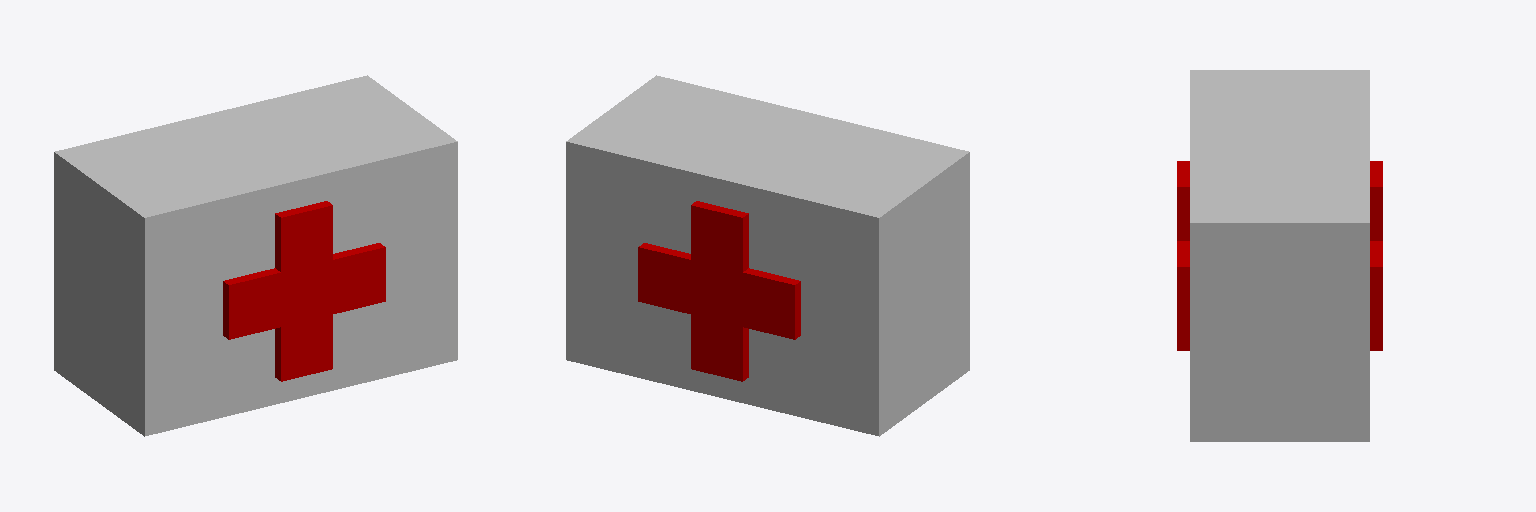
The model's file is healthkit.obj.
3 views of the same model, side by side, from view 1: azimuth 30°, elevation 25°; view 2: azimuth 150°, elevation 25°; view 3: azimuth 270°, elevation 25° (orthographic).
Parts seen in each view (by area): view 1: Cube, Cross_Cube.001; view 2: Cube, Cross_Cube.001; view 3: Cube, Cross_Cube.001.
Part boxes in pixels (x1,y1,x2,y2): Cube: (54, 75, 457, 436); Cross_Cube.001: (223, 201, 385, 381); Cube: (566, 75, 969, 436); Cross_Cube.001: (638, 201, 800, 381); Cube: (1190, 70, 1369, 441); Cross_Cube.001: (1177, 161, 1382, 350).
Size of the model in its own units: 0.6 by 0.4 by 0.34.